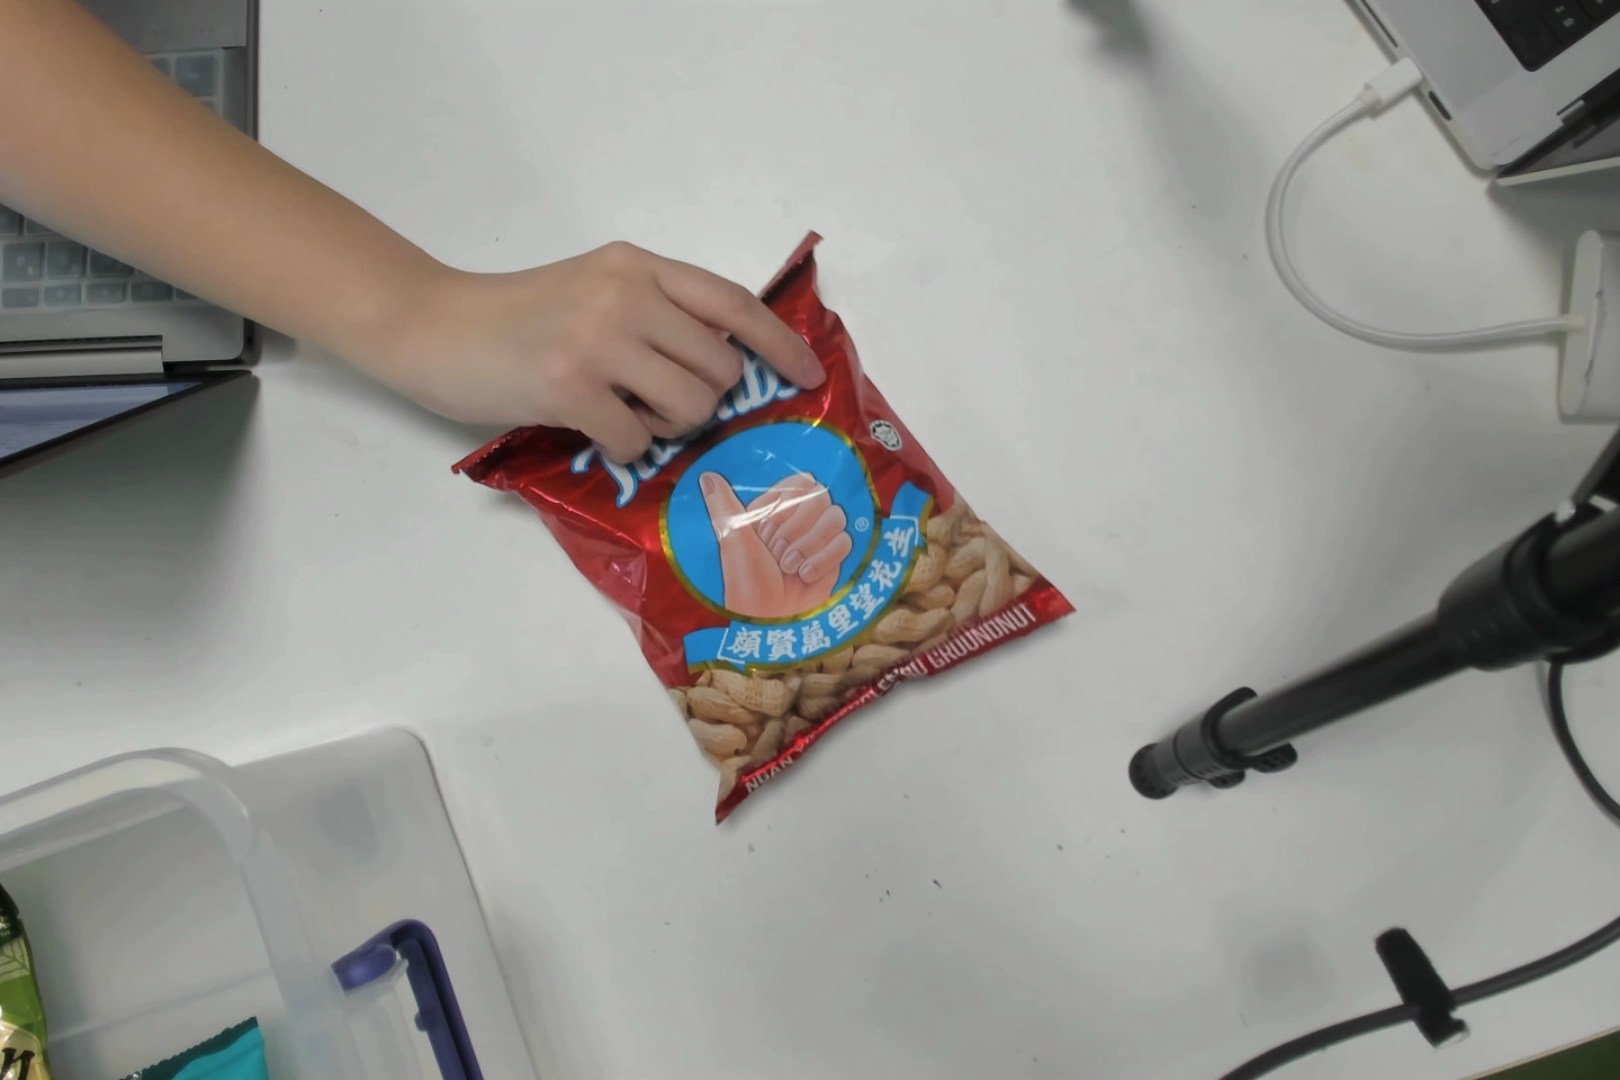Nuts_100-199g_Halal_NonHealthy: (604, 347, 999, 763)
